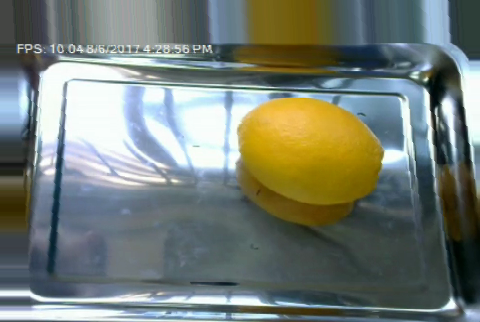Orange: (237, 96, 385, 205)
